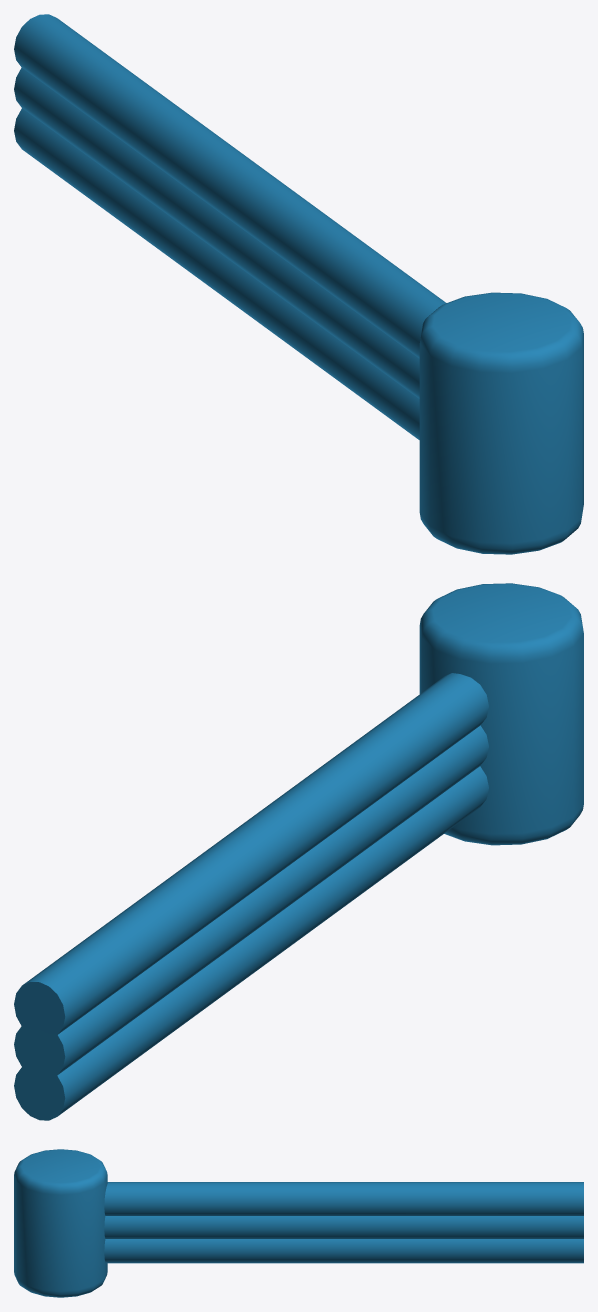
The model's file is cylinder_Blue2.fbx.
3 views of the same model, one above another, from view 1: azimuth 30°, elevation 25°; view 2: azimuth 150°, elevation 25°; view 3: azimuth 270°, elevation 25° (orthographic). The views are drawn at different scales.
Parts seen in each view (by area): view 1: Cylinder.028; view 2: Cylinder.028; view 3: Cylinder.028.
Part boxes in pixels (x1=…): Cylinder.028: x1=14, y1=14, x2=583, y2=554; Cylinder.028: x1=14, y1=583, x2=583, y2=1120; Cylinder.028: x1=14, y1=1149, x2=583, y2=1297.
Bounding box in the file's own units: 1.28 × 7.79 × 1.72.
